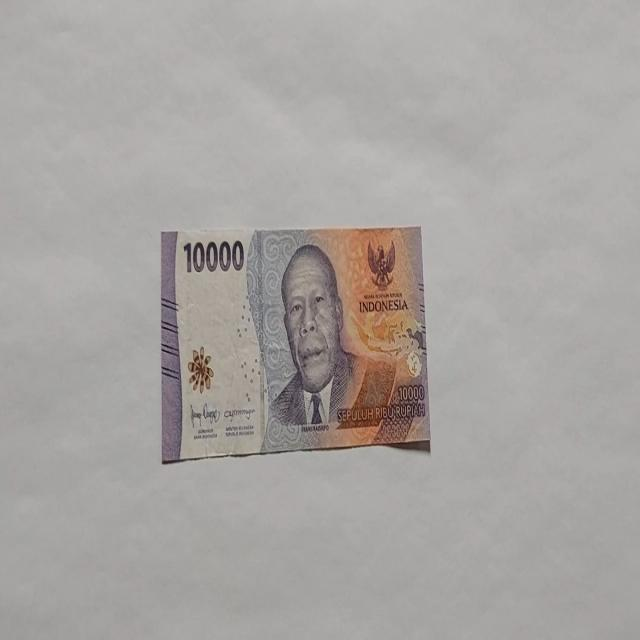sepuluh ribu rupiah: (159, 224, 431, 463), (268, 242, 354, 432)
